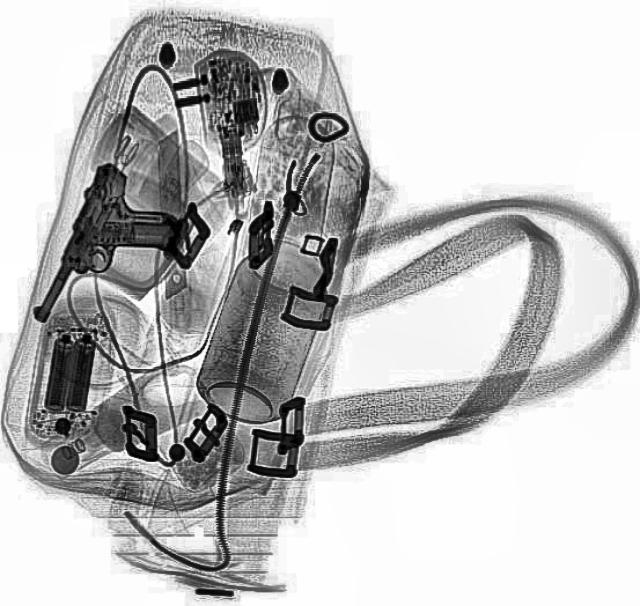Gun: (25, 158, 198, 350)
